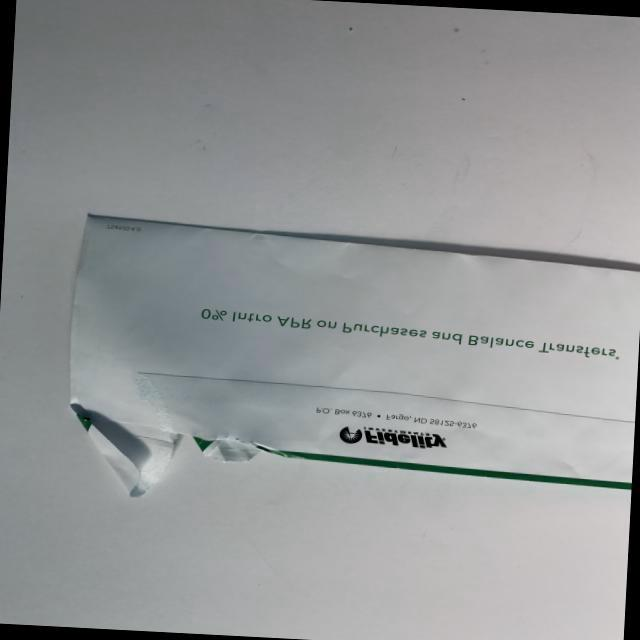paper: (51, 198, 640, 535)
